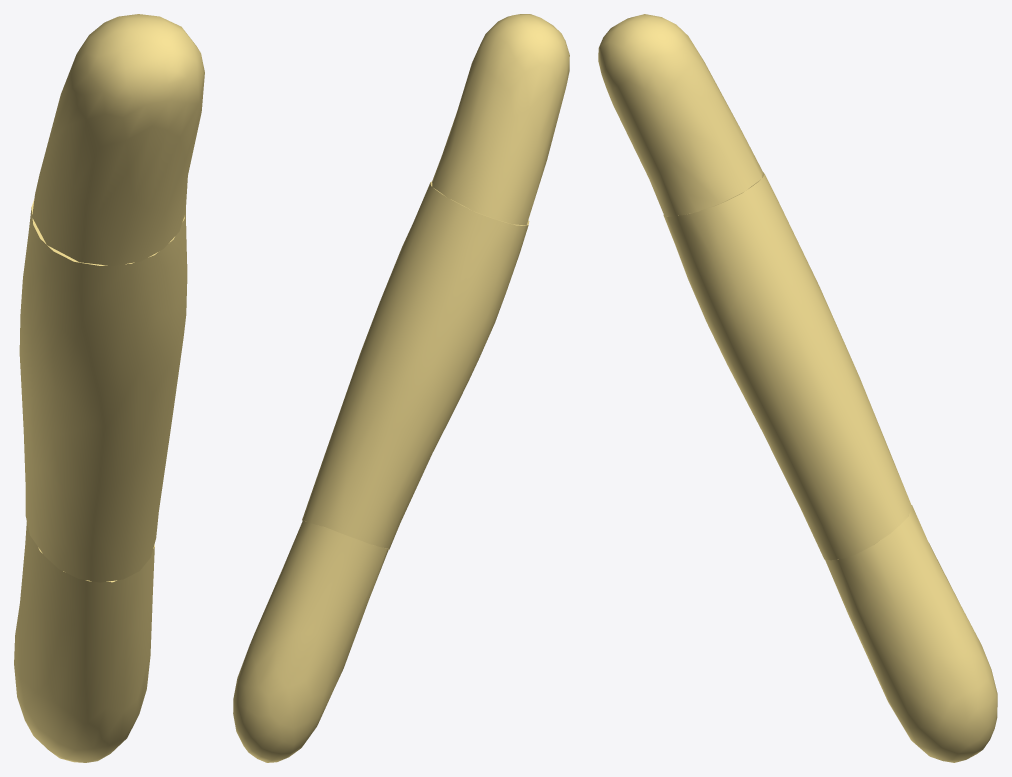
File: fma54589_mm3500m.glb
3 views of the same model, side by side, from view 1: azimuth 30°, elevation 25°; view 2: azimuth 150°, elevation 25°; view 3: azimuth 270°, elevation 25° (orthographic). The views are drawn at different scales.
Parts seen in each view (by area): view 1: FMA54589_MM3500M; view 2: FMA54589_MM3500M; view 3: FMA54589_MM3500M.
Boxes of the visible parts, box(x1,y1,x2,y2) form: FMA54589_MM3500M: box(14, 14, 204, 762); FMA54589_MM3500M: box(233, 14, 569, 762); FMA54589_MM3500M: box(598, 14, 997, 762).
Bounding box in the file's own units: 0.00322 × 0.0111 × 0.00586.
